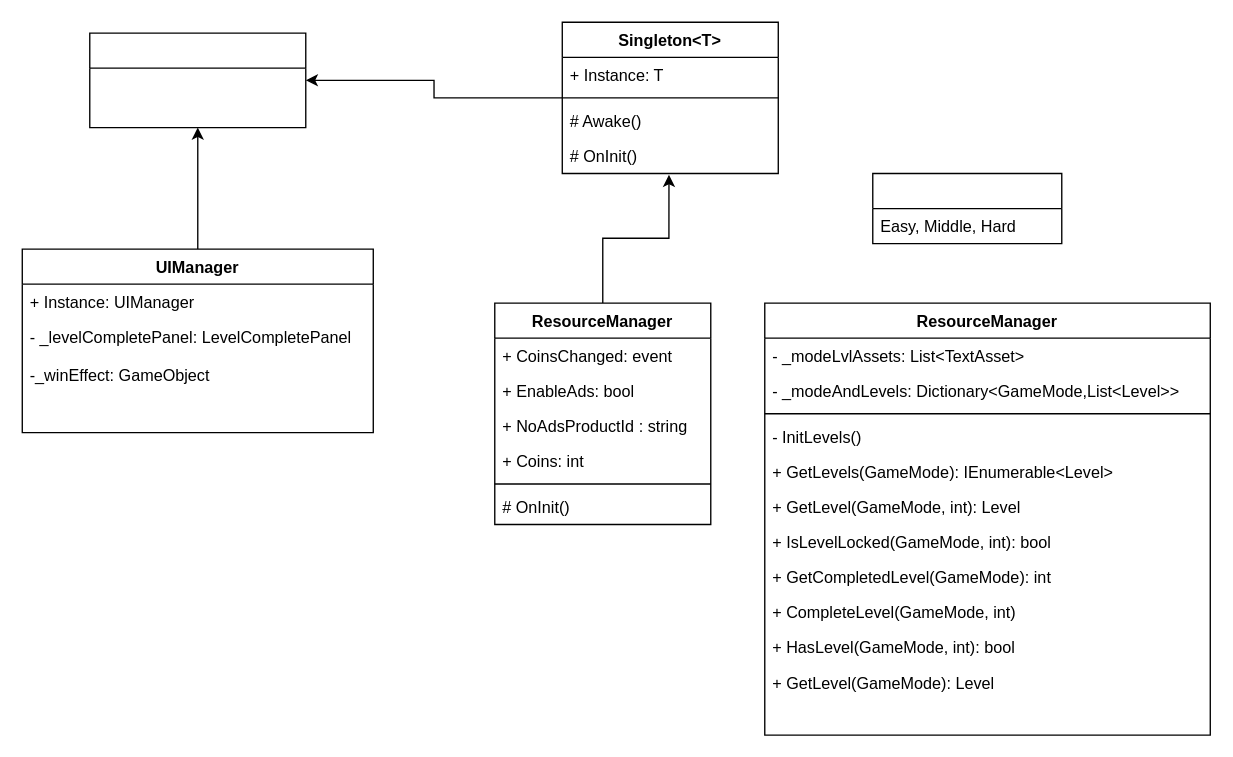
Some shapes in this 1233 by 757 pixel diagram are drawn without their labels. Each missing label, with the box of its shape:
GameMode: (871, 172, 1062, 244)
MonoBehaviour: (88, 32, 306, 128)
